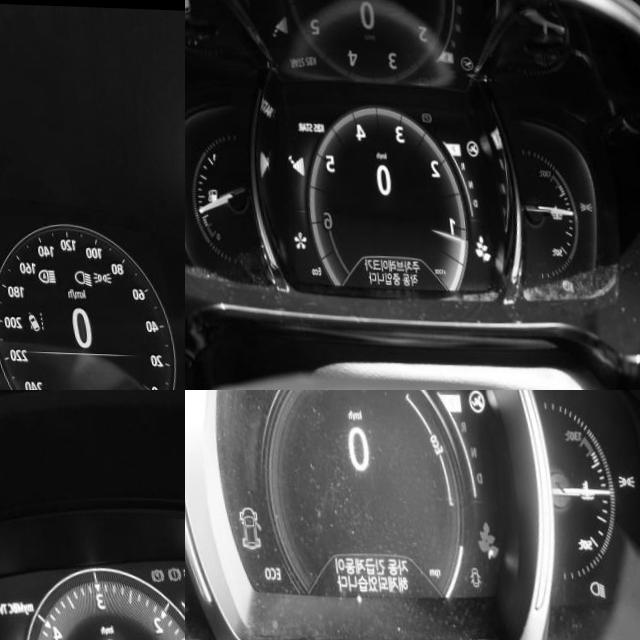Doors: (460, 562, 473, 584)
Low beam: (68, 264, 87, 285), (580, 575, 598, 594), (553, 275, 566, 289)
SideLamp: (86, 266, 106, 281), (611, 468, 630, 483), (572, 197, 586, 208)
